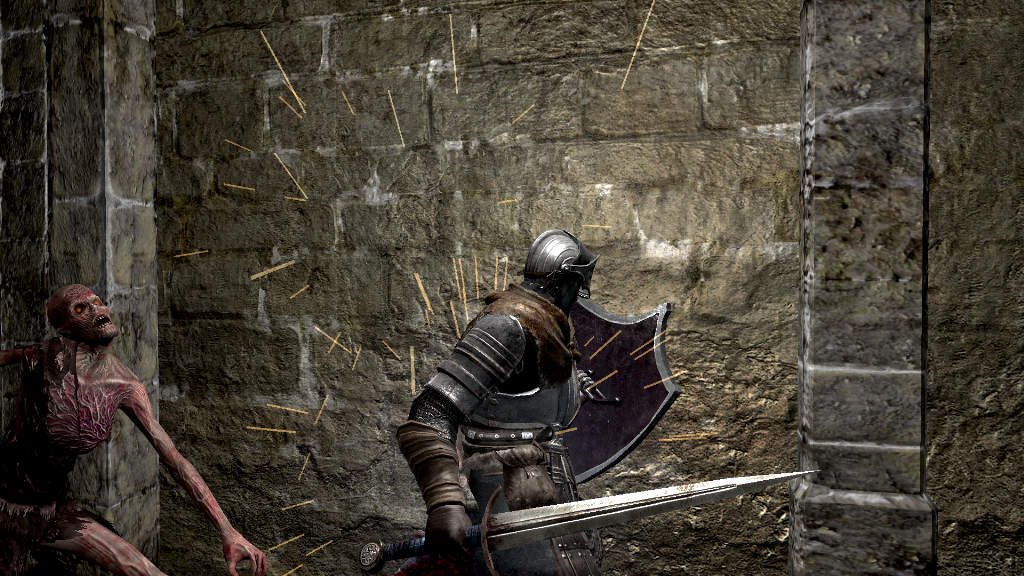hollow: (1, 281, 267, 576)
player: (357, 227, 825, 576)
